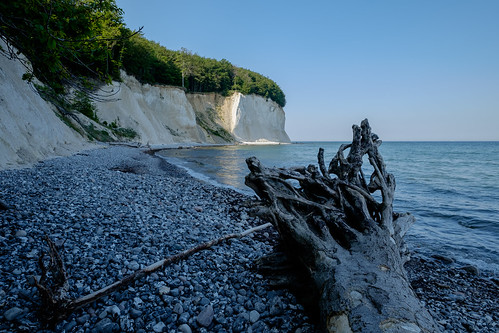sea: (170, 142, 499, 264)
sky: (295, 1, 499, 139), (135, 1, 308, 64)
vegetation: (21, 1, 282, 99)
